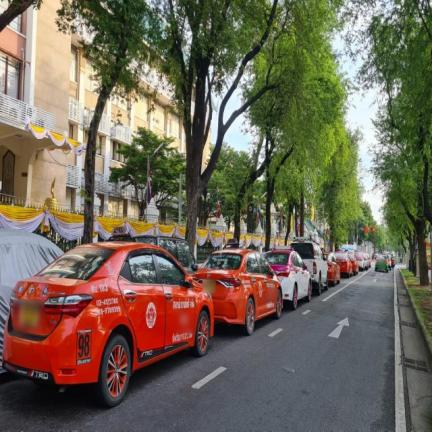car: (291, 237, 327, 294)
taxi: (3, 242, 213, 406), (194, 248, 282, 335), (265, 248, 311, 309), (324, 252, 340, 286), (334, 250, 352, 277)
